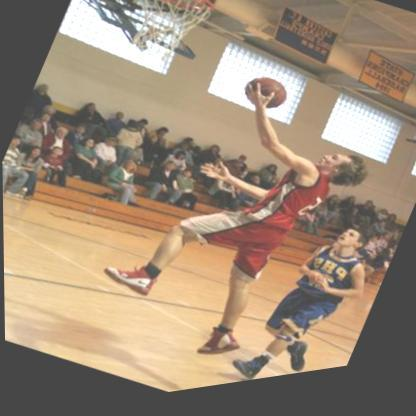basketball: (237, 73, 294, 127)
rim: (129, 0, 220, 34)
